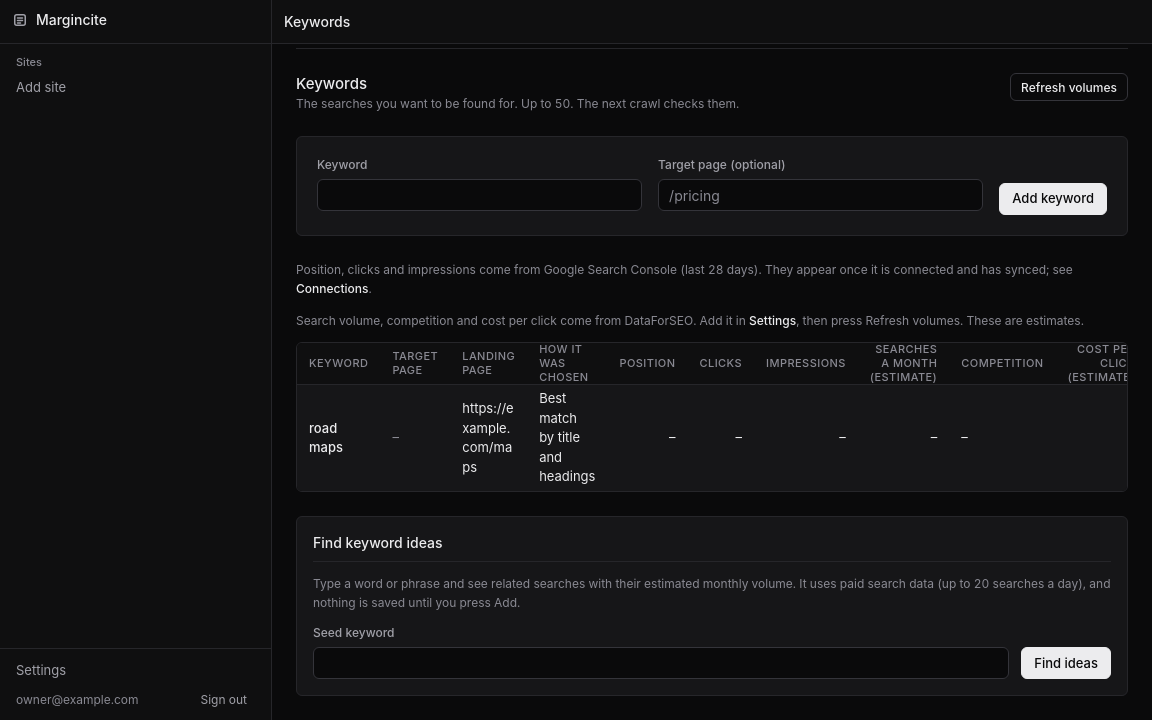
Scenario: Find keyword ideas sends the seed and lists ideas with Add buttons that add them
(page scrolled)
Type "  city maps " into the field labelled "Seed keyword" at [661, 663], box x1=313 y1=647 x2=1009 y2=679
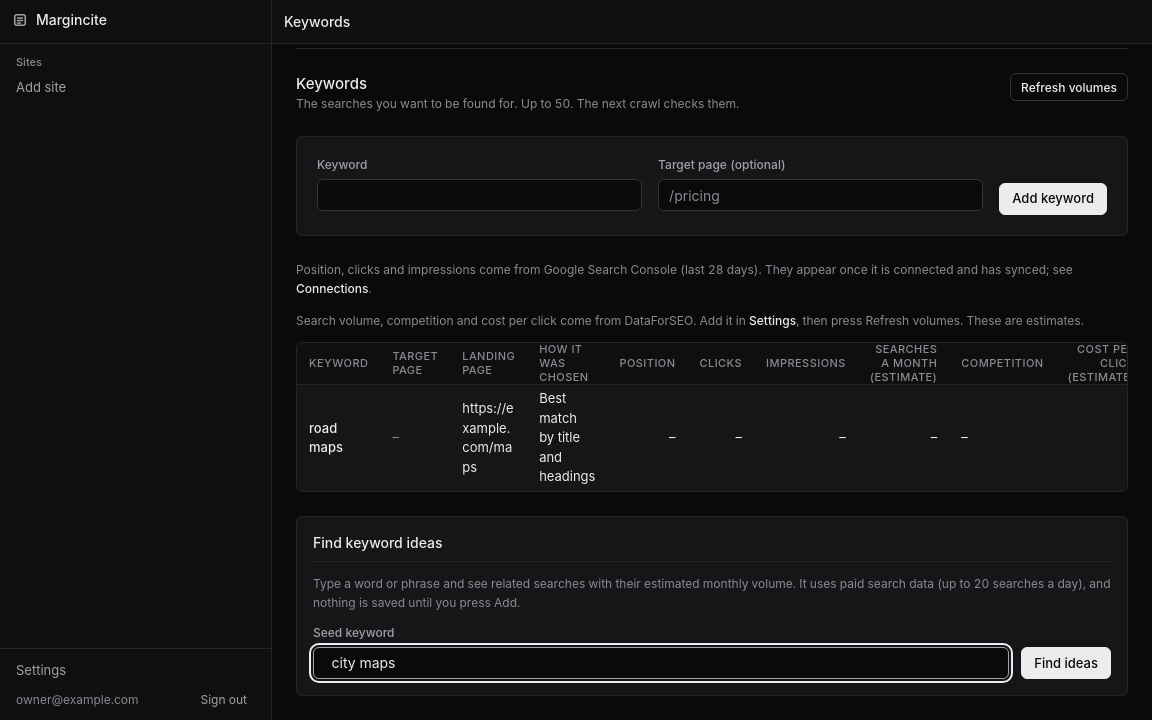
Click the button "Find ideas" at [1066, 663], box x1=1021 y1=647 x2=1111 y2=679
(page scrolled)
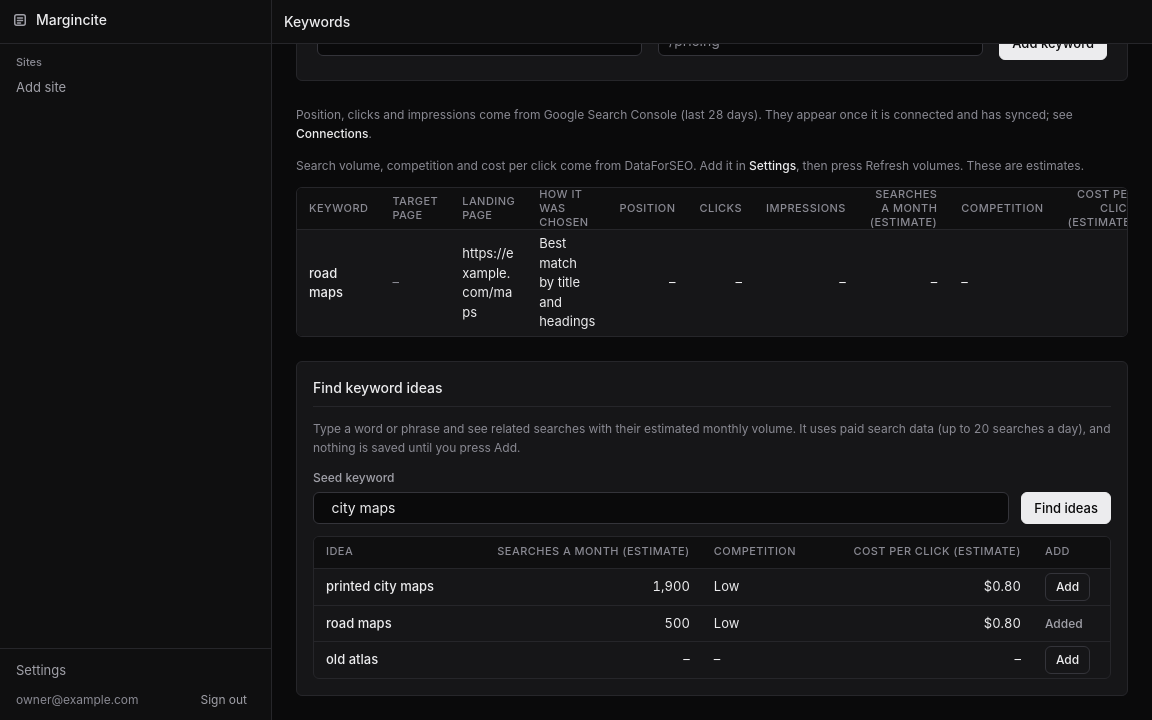
Now the text "printed city maps" shows "1,900", box x1=653 y1=578 x2=690 y2=594
Now the text "printed city maps" shows "Low", box x1=714 y1=578 x2=739 y2=594
Now the text "printed city maps" shows "$0.80", box x1=984 y1=578 x2=1021 y2=594
Click the button with aria-label "Add printed city maps" at [1068, 587], box x1=1045 y1=573 x2=1090 y2=601
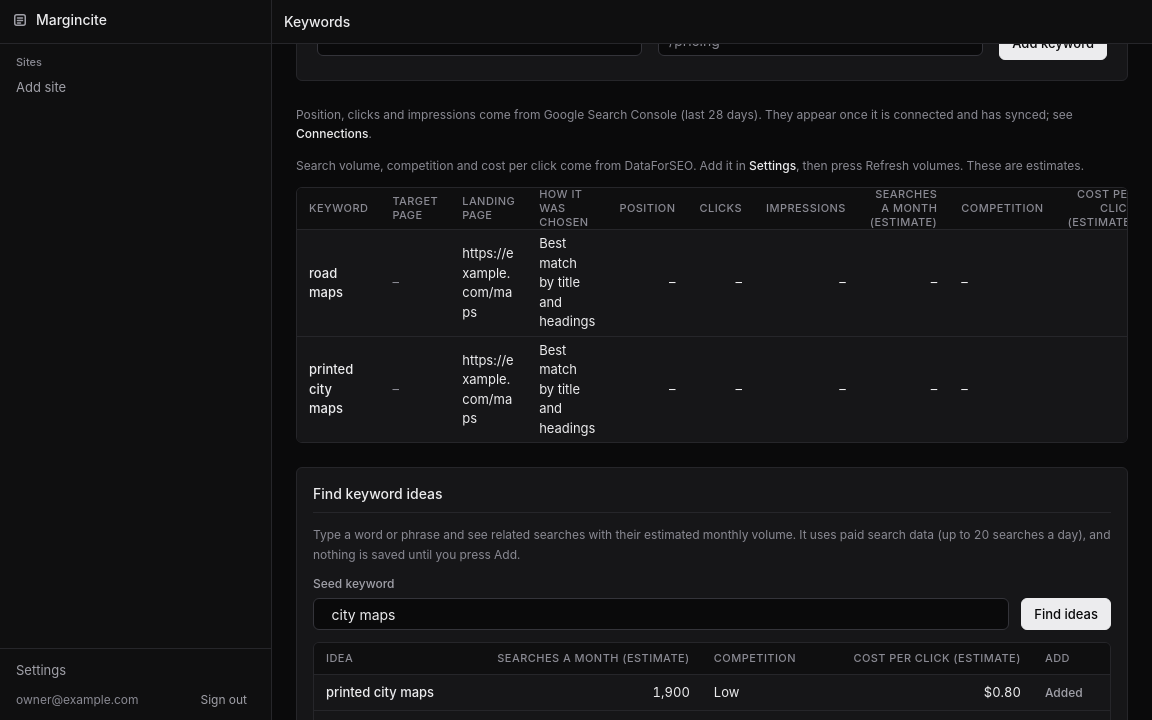
Now the text "printed city maps" shows "Added", box x1=1045 y1=685 x2=1083 y2=700
Now the text "printed city maps" below "Landing page" is shown, box x1=309 y1=361 x2=353 y2=416
